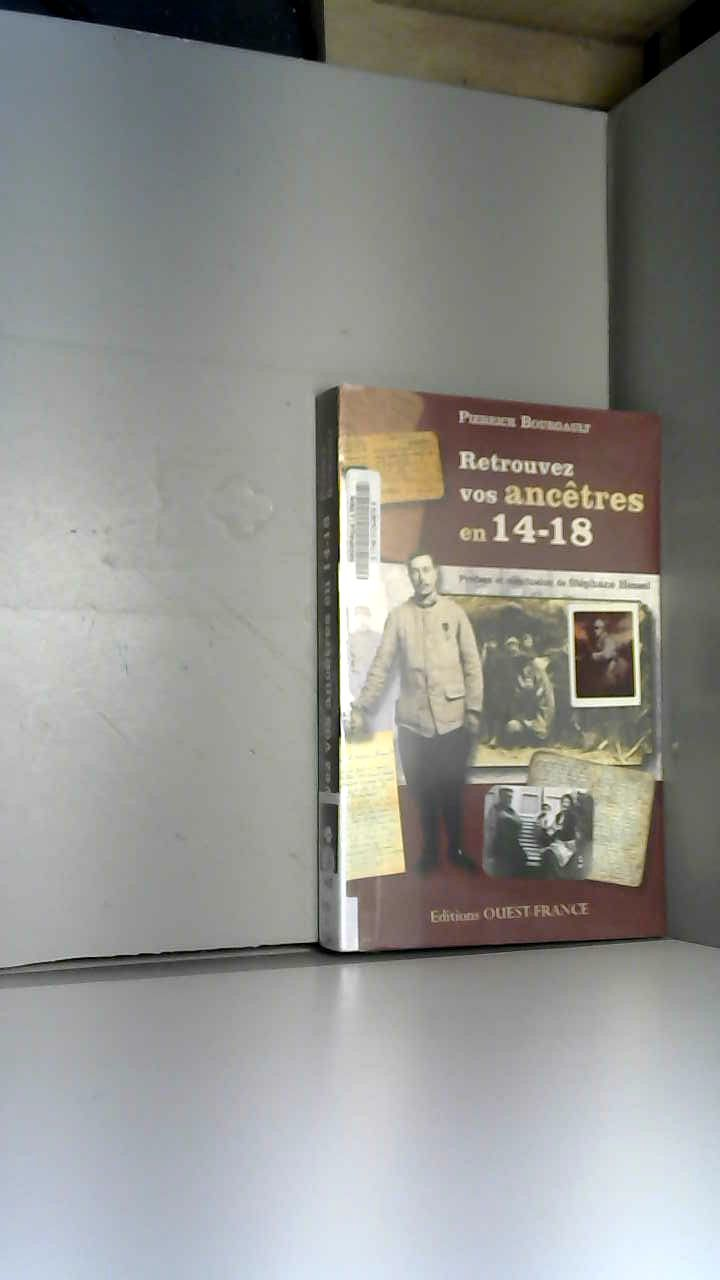book: (271, 341, 705, 1001)
